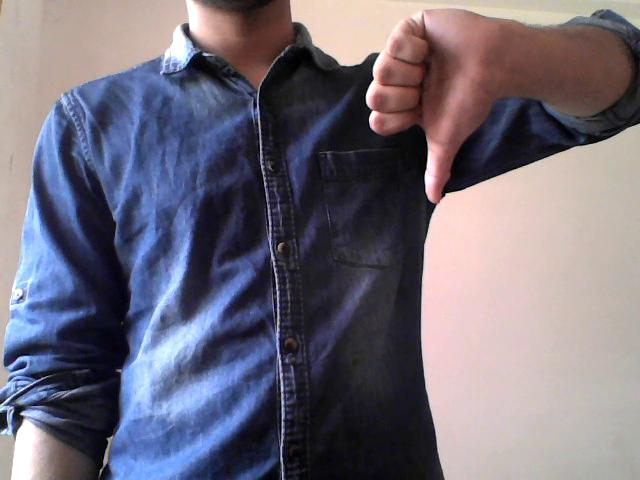thumbs-down: (318, 4, 539, 213)
